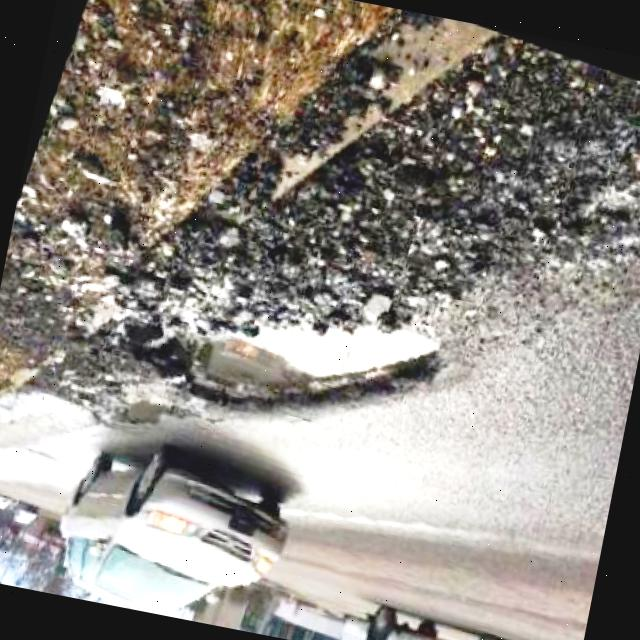pothole: (140, 266, 471, 455)
